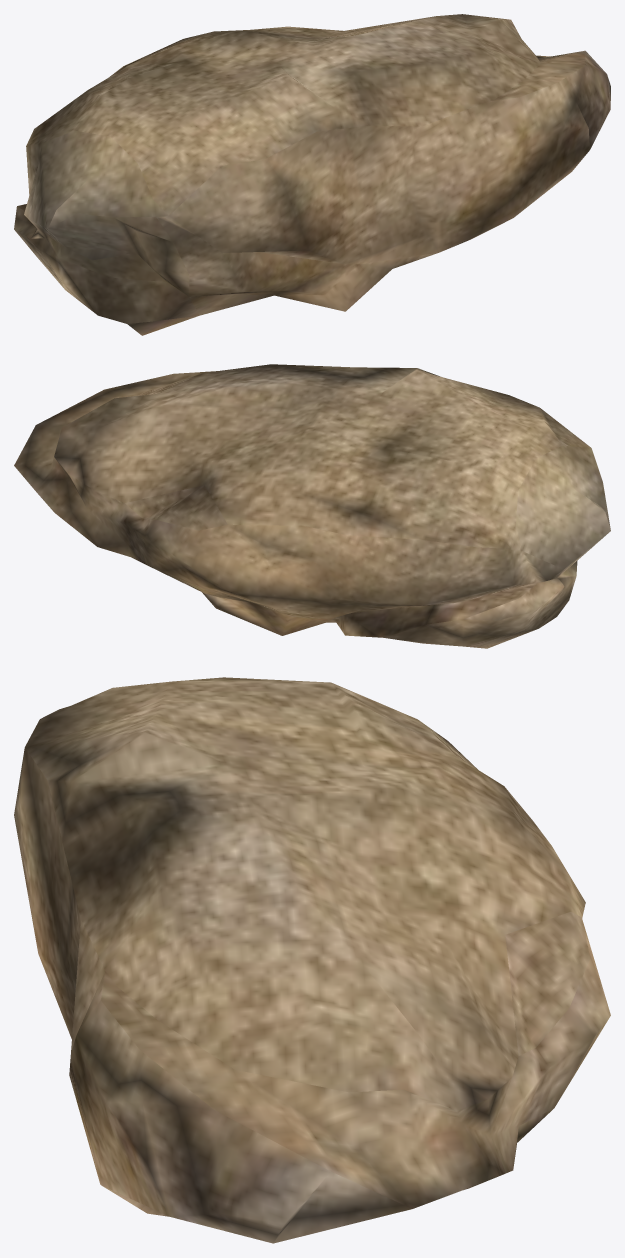
The model's file is stone.glb.
3 views of the same model, one above another, from view 1: azimuth 30°, elevation 25°; view 2: azimuth 150°, elevation 25°; view 3: azimuth 270°, elevation 25° (orthographic). The views are drawn at different scales.
Visible parts, largest first — view 1: namaqualand_boulder_05; view 2: namaqualand_boulder_05; view 3: namaqualand_boulder_05.
Part boxes in pixels (x1=…): namaqualand_boulder_05: x1=14, y1=14, x2=610, y2=335; namaqualand_boulder_05: x1=14, y1=364, x2=610, y2=648; namaqualand_boulder_05: x1=14, y1=677, x2=610, y2=1243.
Bounding box in the file's own units: 1.36 × 0.5259 × 0.7479.
1 material, 1 textured.
